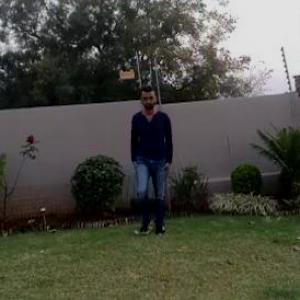follow: (124, 82, 175, 242)
